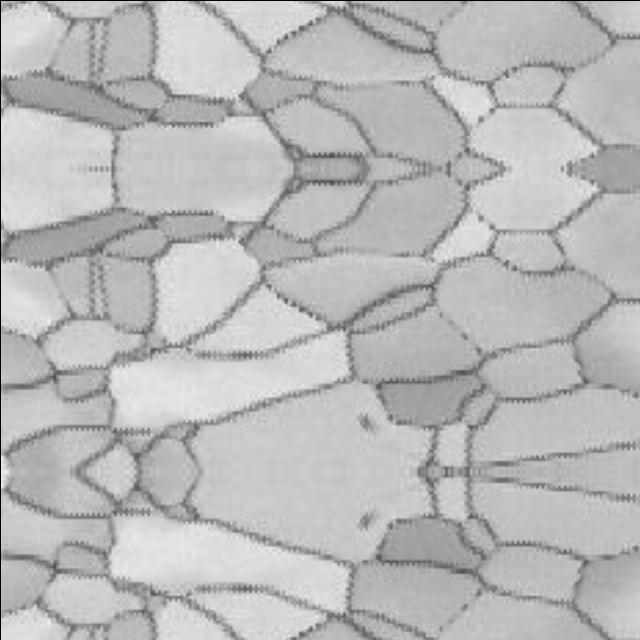good_void: (355, 412, 376, 432), (355, 512, 376, 532)
